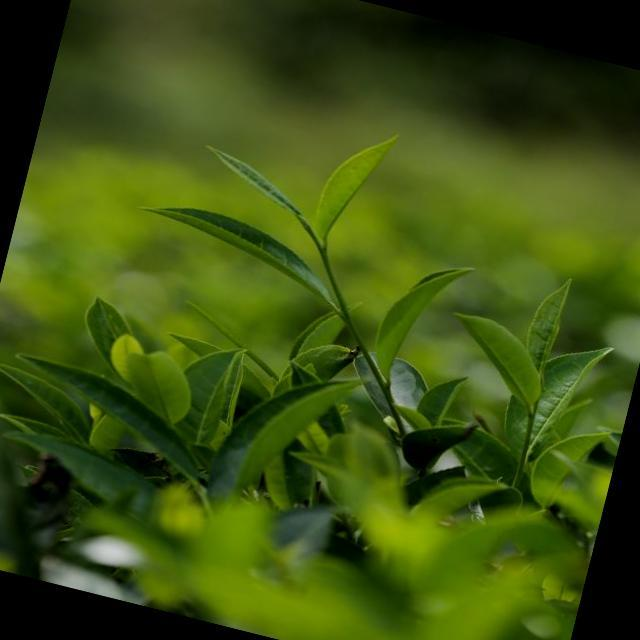Stem: (528, 413, 534, 421), (321, 251, 326, 257)
